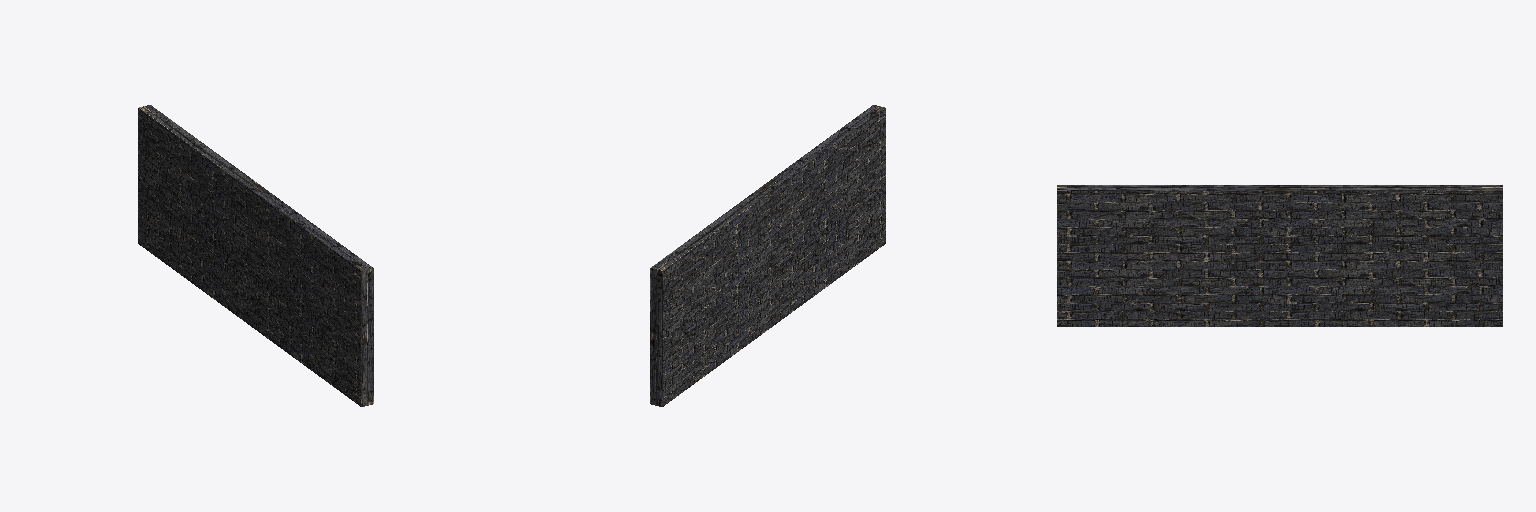
3 views of the same model, side by side, from view 1: azimuth 30°, elevation 25°; view 2: azimuth 150°, elevation 25°; view 3: azimuth 270°, elevation 25° (orthographic).
Visible parts, largest first — view 1: Cube_Cube.001; view 2: Cube_Cube.001; view 3: Cube_Cube.001.
Boxes of the visible parts, <box> form: Cube_Cube.001: <box>138,105,373,406</box>; Cube_Cube.001: <box>650,105,885,406</box>; Cube_Cube.001: <box>1057,185,1502,326</box>.
Size of the model in its own units: 0.8 by 8.62 by 25.56.
1 materials, 1 textured.